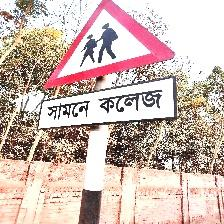College-in-front: (37, 0, 184, 142)
